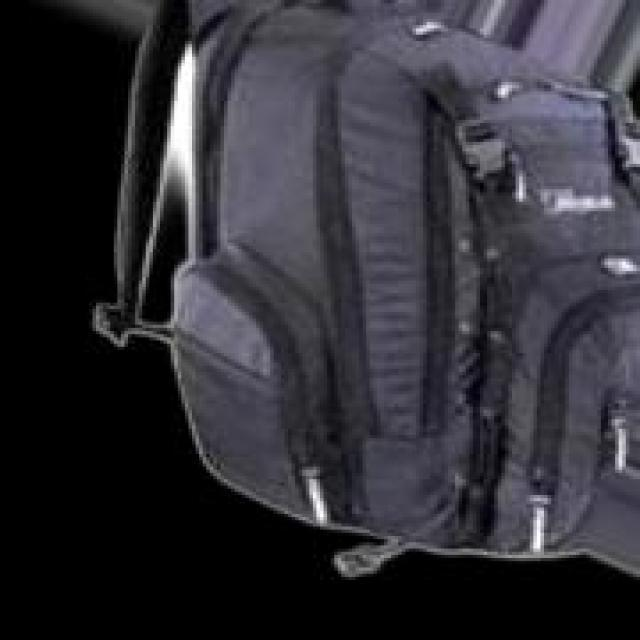Suitcase: (110, 0, 635, 585)
